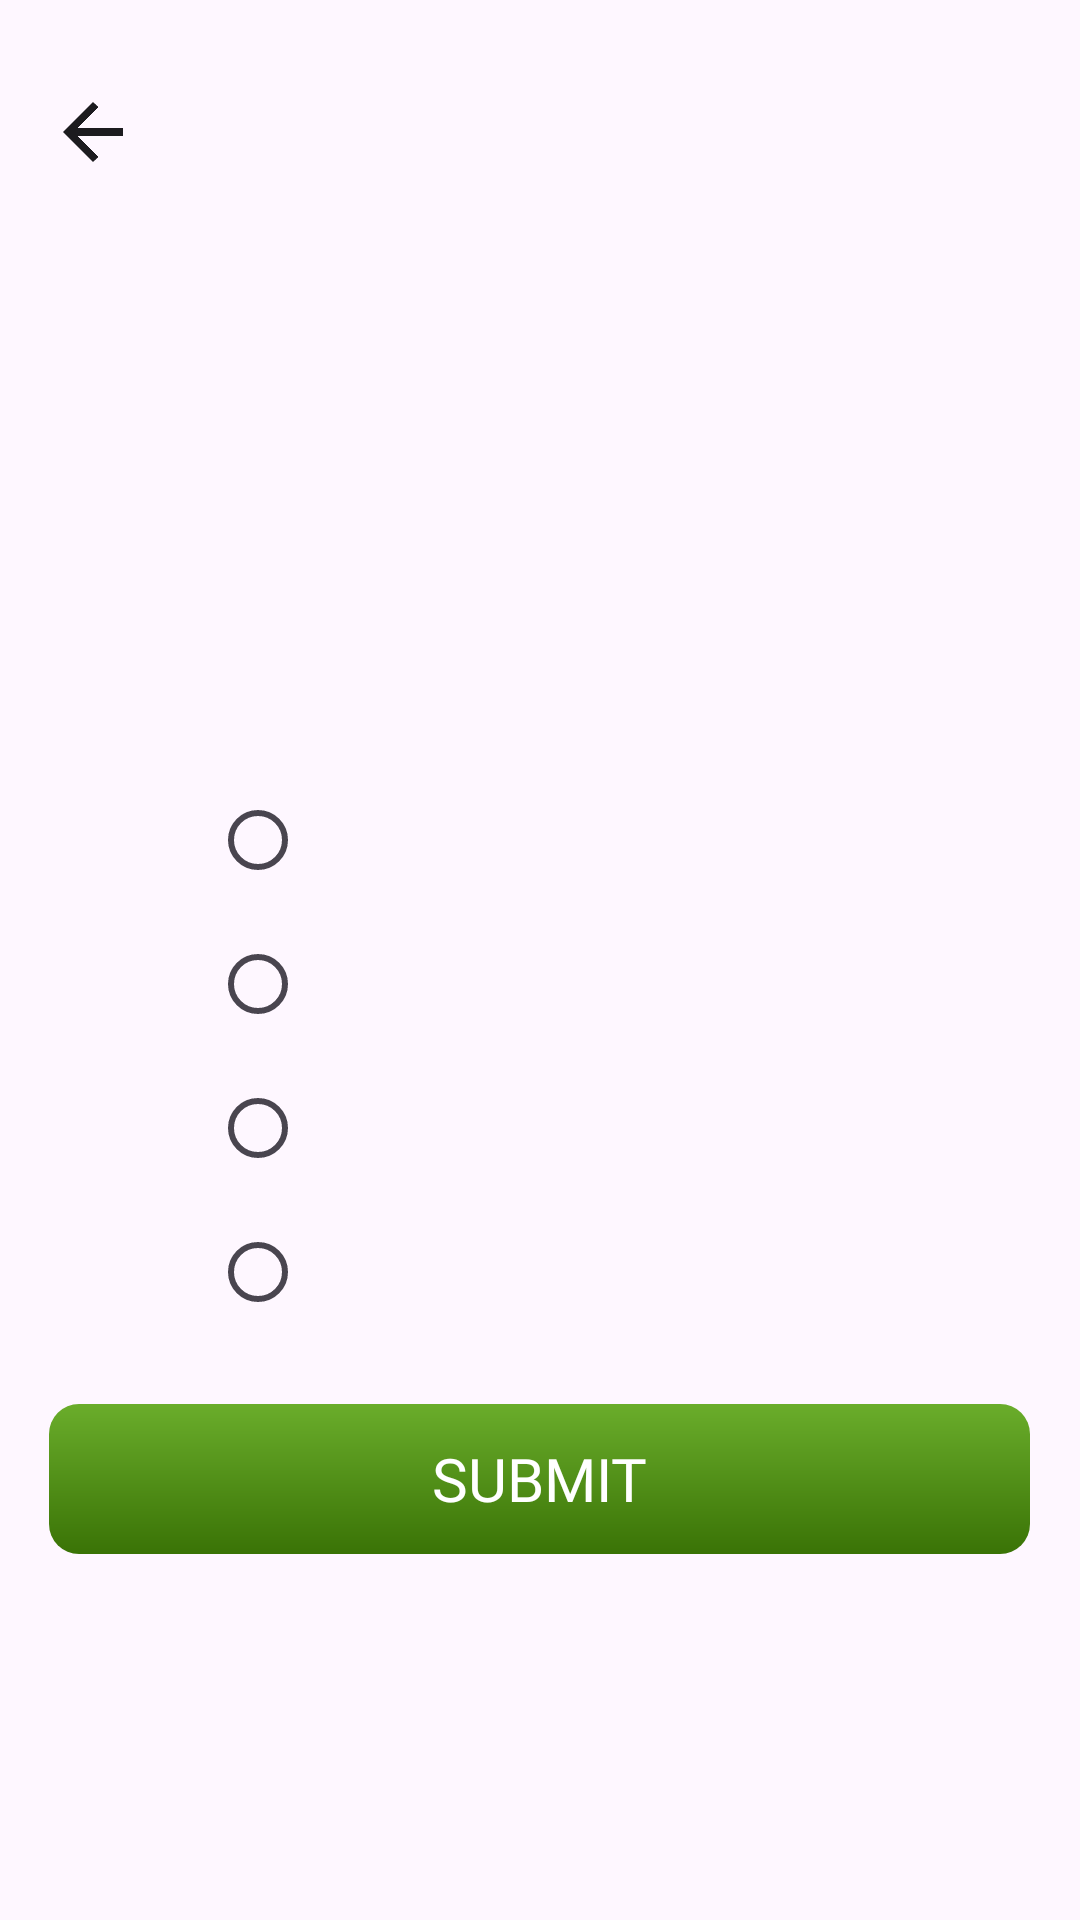

Icon click points for this 1080x1920 phone screenshot, format (x=x, y=y):
arrow back: (x=93, y=132)
